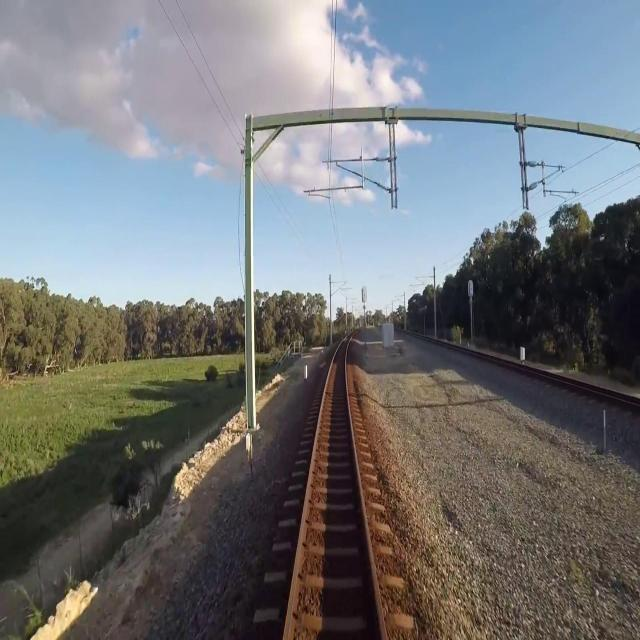rail-track: (287, 337, 380, 639)
